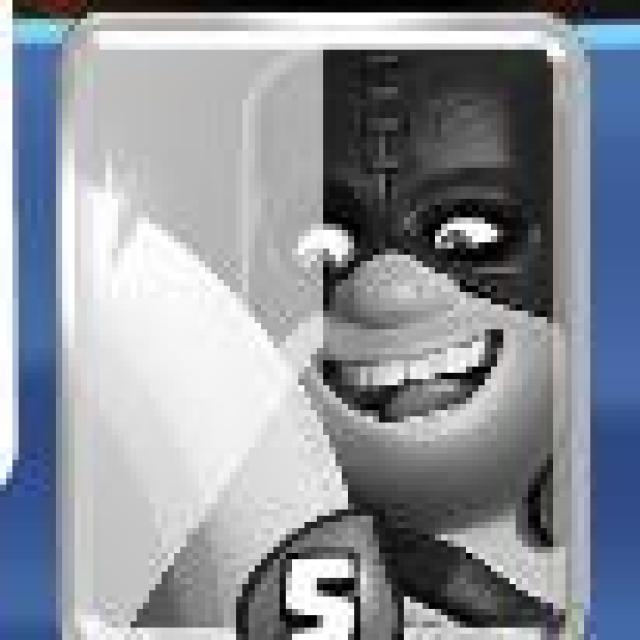Executioner: (58, 13, 593, 640)
